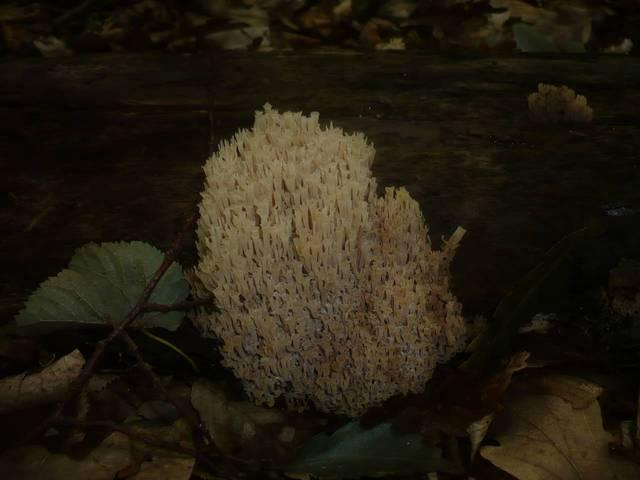edible_mushroom: (184, 100, 470, 417)
